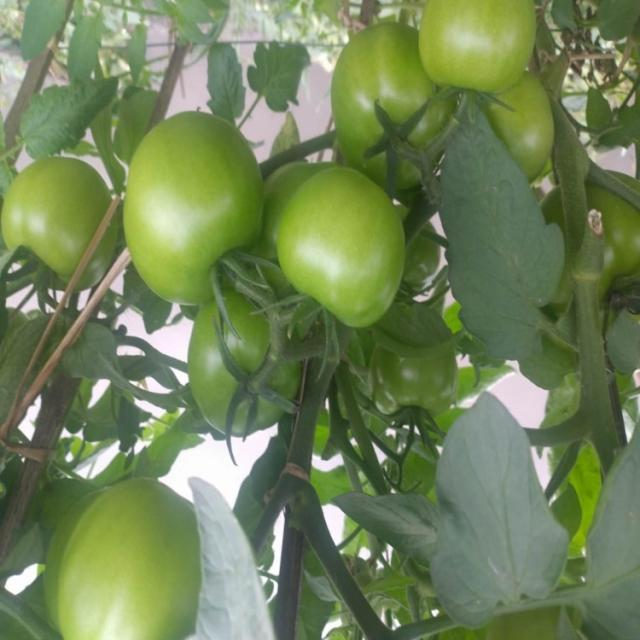tomato: (122, 87, 276, 304), (39, 474, 199, 640), (264, 157, 407, 335), (315, 7, 454, 186), (184, 288, 303, 456), (412, 1, 552, 109), (1, 158, 118, 279), (366, 295, 463, 423), (479, 56, 567, 186), (540, 167, 640, 275)
